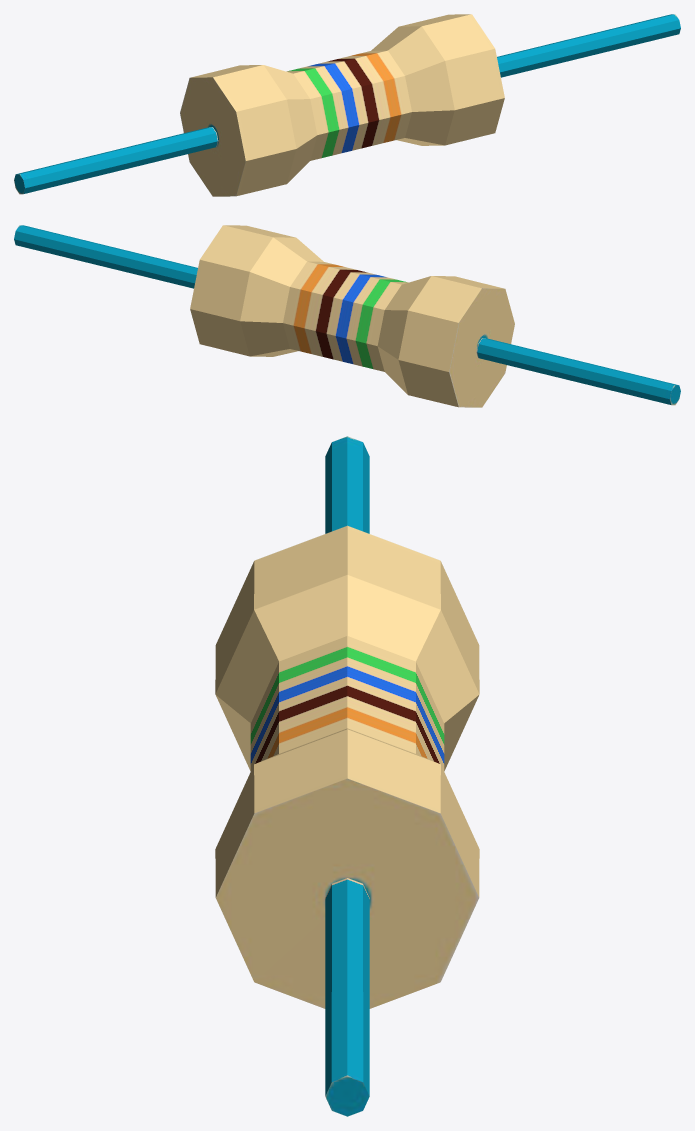
The model's file is Resistor.fbx.
3 renders of one model, top to bottom at view 1: azimuth 30°, elevation 25°; view 2: azimuth 150°, elevation 25°; view 3: azimuth 270°, elevation 25°, orthographic. The views are drawn at different scales.
Visible parts, largest first — view 1: Resistor_1; view 2: Resistor_1; view 3: Resistor_1.
Boxes of the visible parts, x1,y1,x2,y2 form: Resistor_1: [14, 14, 680, 196]; Resistor_1: [14, 225, 680, 407]; Resistor_1: [215, 436, 479, 1116].
Bounding box in the file's own units: 32.21 × 5.62 × 5.62.
